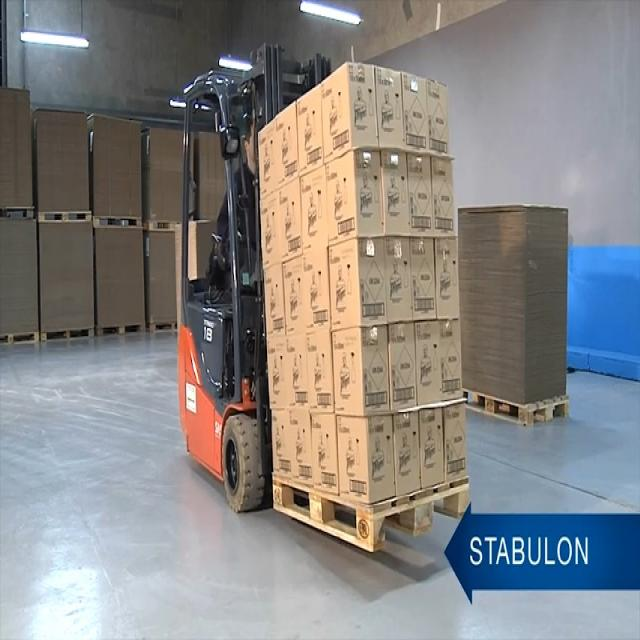Chariot elevateur: (165, 45, 331, 519)
Palette: (271, 474, 482, 566), (461, 387, 570, 429), (34, 202, 93, 235), (94, 314, 150, 342), (42, 319, 95, 348), (93, 210, 145, 234), (0, 202, 40, 226), (0, 323, 38, 348), (148, 214, 181, 234), (153, 318, 180, 342)
